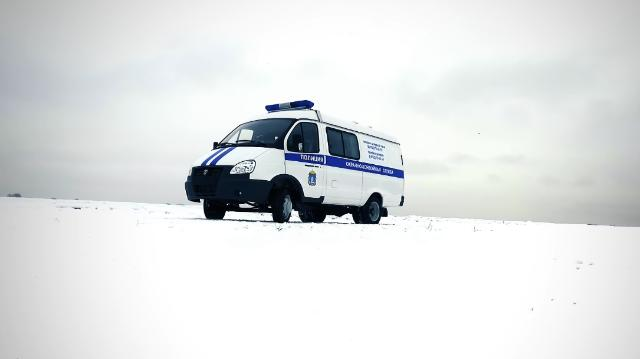police car: (182, 94, 408, 228)
